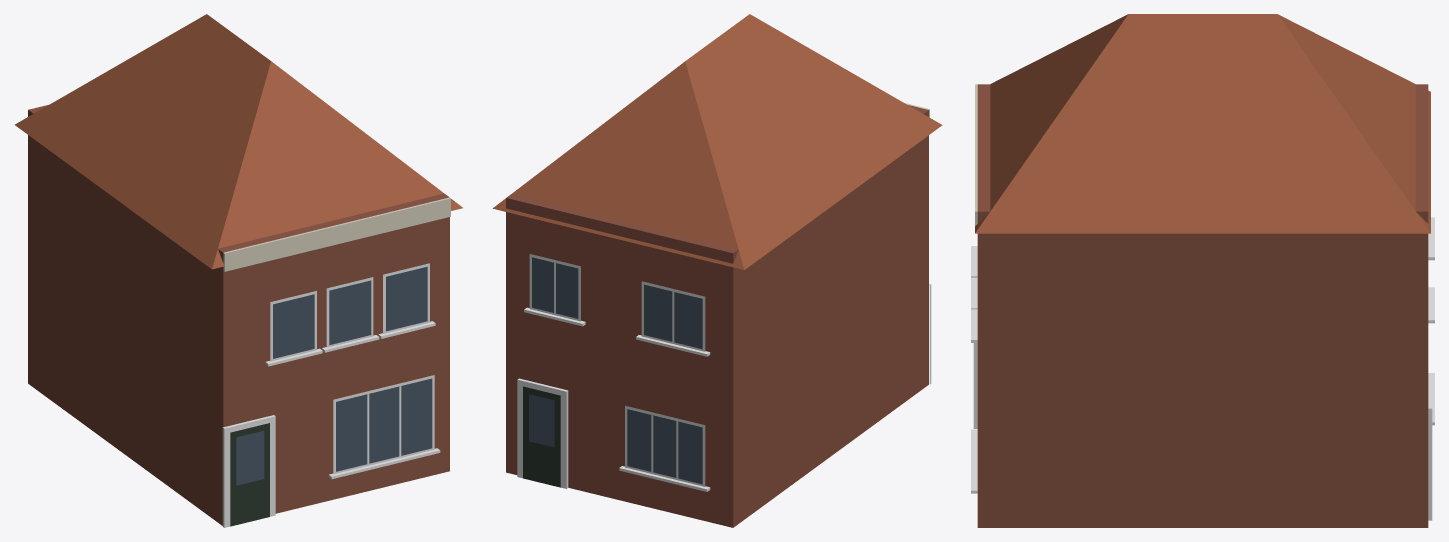
The model's file is nd-bz-brick-row__green-door__2__hip__short__solid.glb.
3 views of the same model, side by side, from view 1: azimuth 30°, elevation 25°; view 2: azimuth 150°, elevation 25°; view 3: azimuth 270°, elevation 25° (orthographic). The views are drawn at different scales.
Visible parts, largest first — view 1: nd-bz-brick-row__green-door__2__hip__short__solid; view 2: nd-bz-brick-row__green-door__2__hip__short__solid; view 3: nd-bz-brick-row__green-door__2__hip__short__solid.
Part boxes in pixels (bbox=[...]): nd-bz-brick-row__green-door__2__hip__short__solid: bbox=[14, 14, 462, 527]; nd-bz-brick-row__green-door__2__hip__short__solid: bbox=[492, 14, 942, 527]; nd-bz-brick-row__green-door__2__hip__short__solid: bbox=[971, 14, 1434, 527].
Size of the model in its own units: 6.02 by 8.92 by 8.33.
